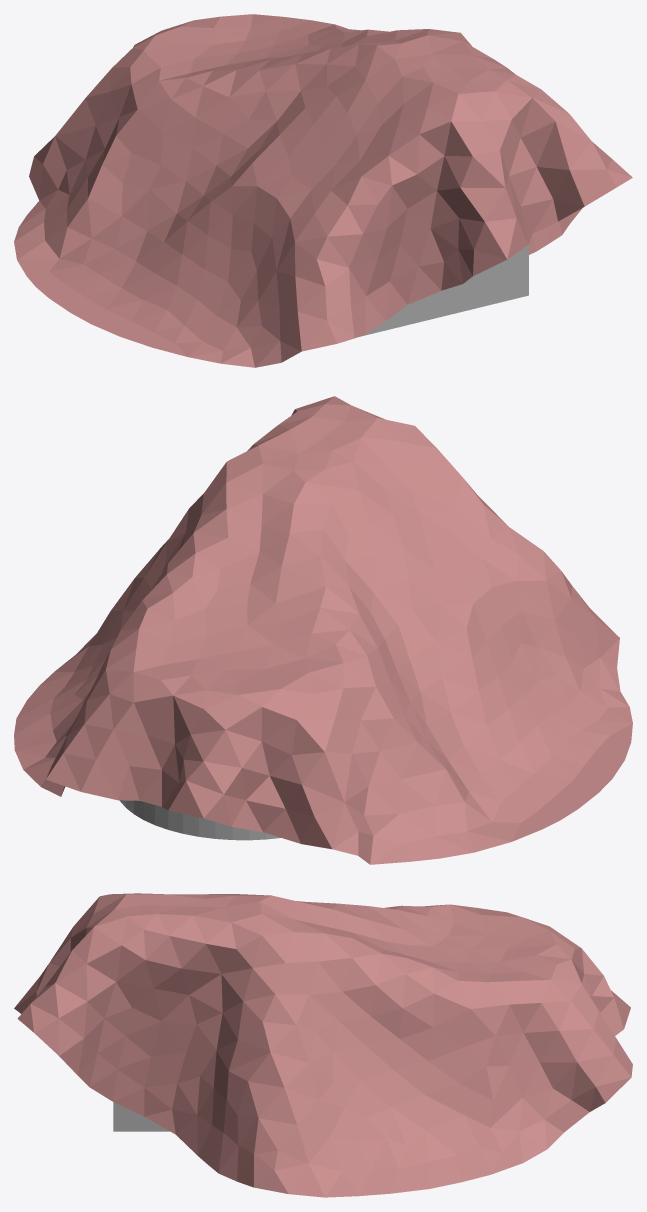
Rendered from level_0.glb.
3 views of the same model, one above another, from view 1: azimuth 30°, elevation 25°; view 2: azimuth 150°, elevation 25°; view 3: azimuth 270°, elevation 25° (orthographic). The views are drawn at different scales.
Parts seen in each view (by area): view 1: world, object.obj; view 2: world, object.obj; view 3: world, object.obj.
Boxes of the visible parts, x1,y1,x2,y2 form: world: [14, 14, 632, 367]; object.obj: [359, 244, 528, 336]; world: [14, 396, 632, 864]; object.obj: [119, 800, 280, 840]; world: [14, 893, 632, 1197]; object.obj: [113, 1102, 169, 1131].
Size of the model in its own units: 0.4762 by 0.1951 by 0.5231.
